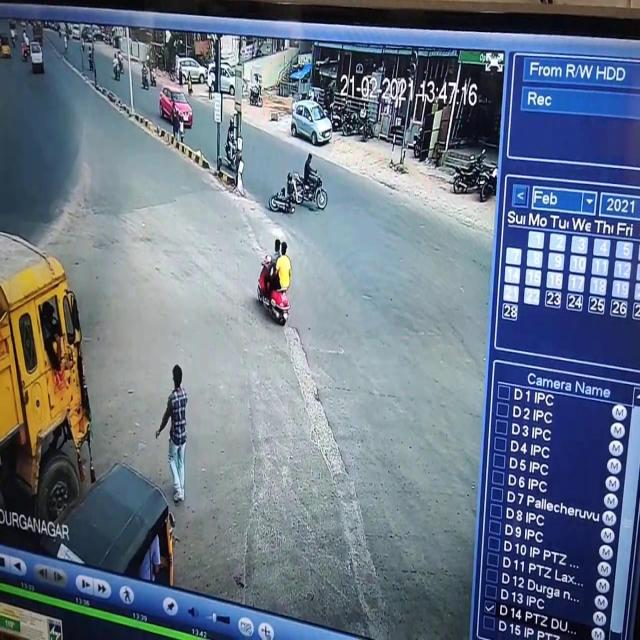accident: (265, 151, 329, 220)
